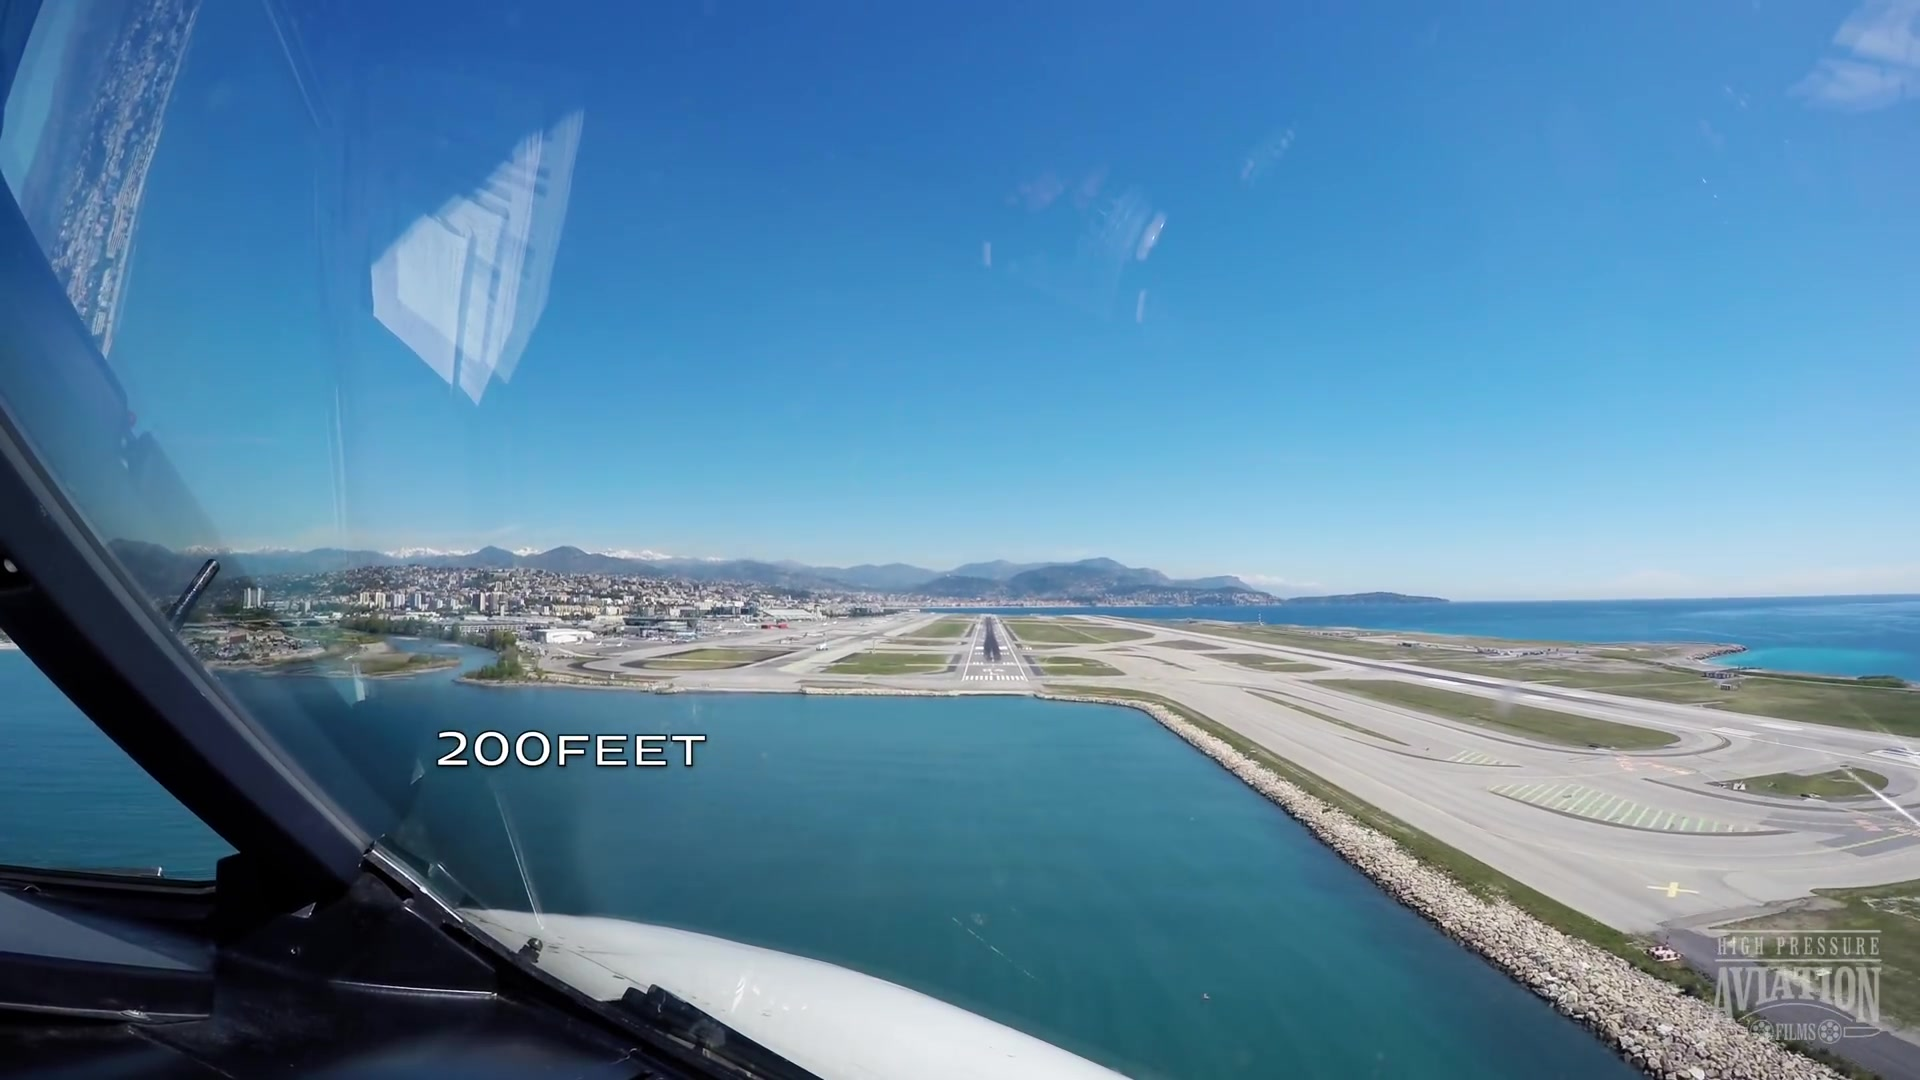entrance: (963, 673, 1025, 684)
runway: (960, 615, 1029, 688)
